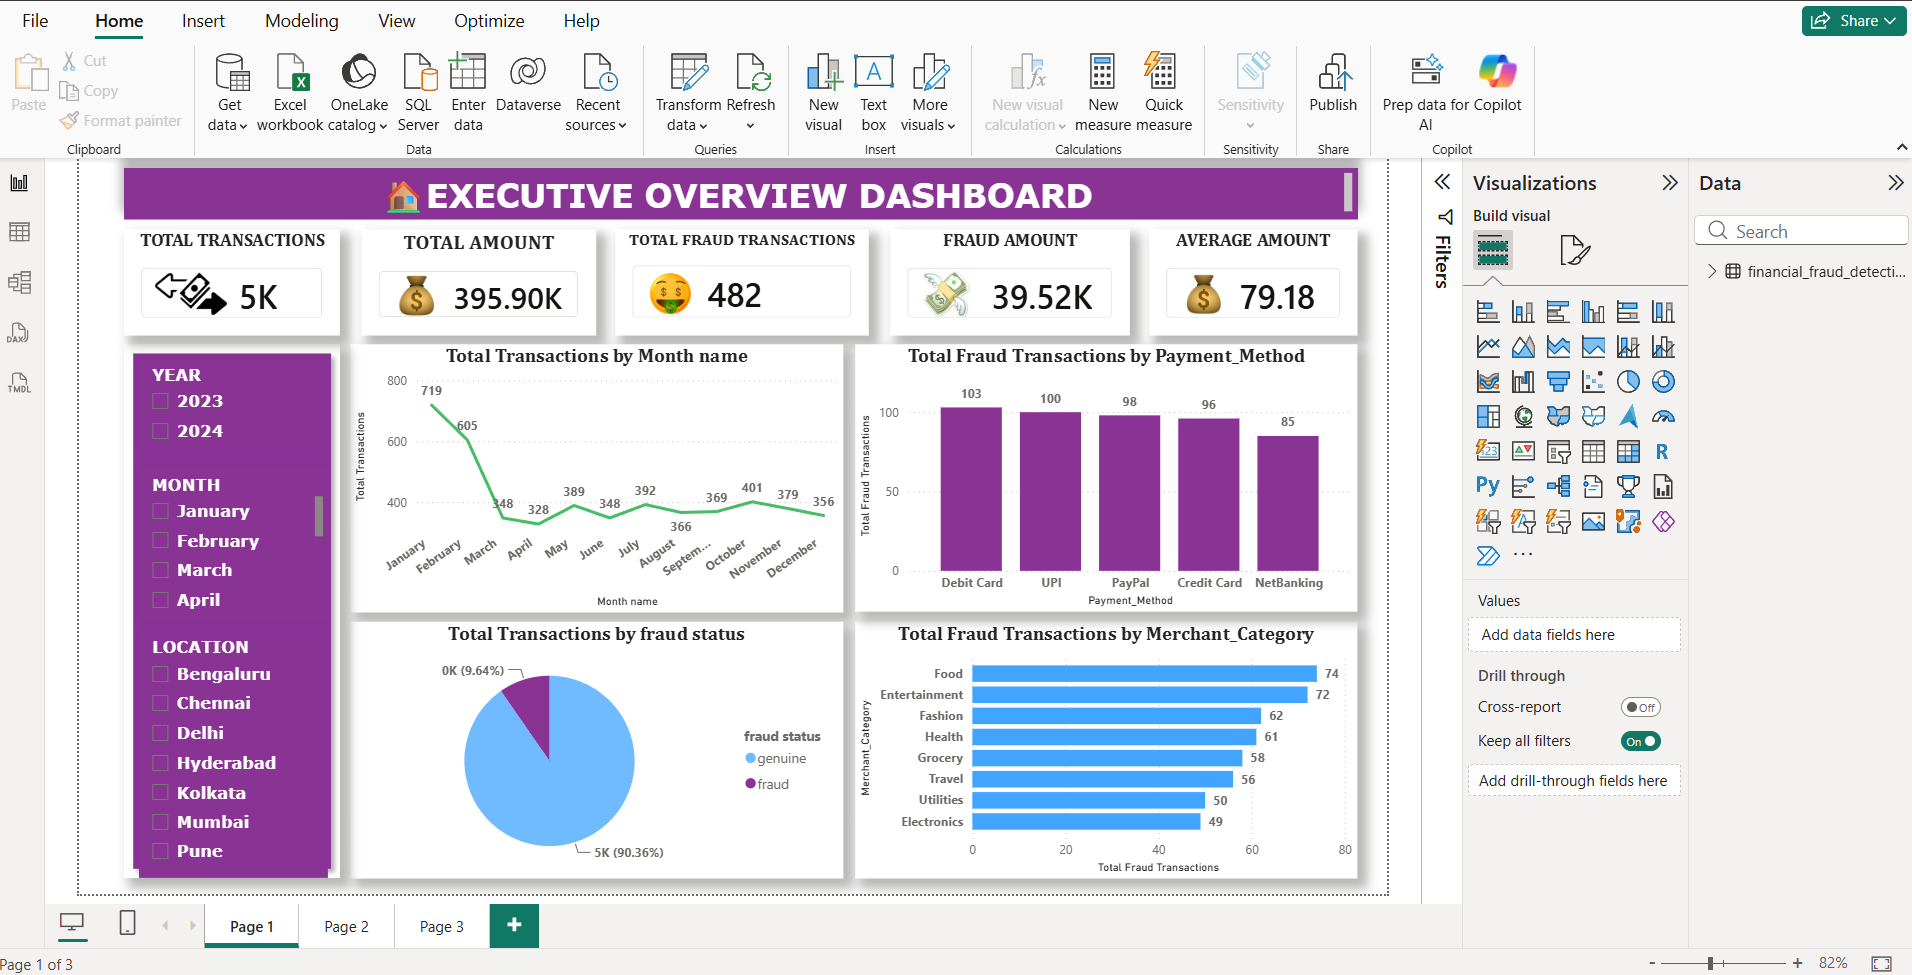

What the dashboard file says about the page in this screenshot:
{"tool":"powerbi","page":{"name":"Page 1","canvas":[1280,720],"ordinal":0},"visuals":[{"type":"cardVisual","title":"TOTAL TRANSACTIONS","fields":{"Data":["financial_fraud_detection_datas.Total Transactions"]},"box":[44,69.7,211.6,103.9],"z":0},{"type":"cardVisual","title":"TOTAL AMOUNT","fields":{"Data":["financial_fraud_detection_datas.Total Amount"]},"box":[276.4,69.7,229.9,103.9],"z":1000},{"type":"cardVisual","title":"TOTAL FRAUD TRANSACTIONS","fields":{"Data":["financial_fraud_detection_datas.Total Fraud Transactions"]},"box":[524.6,69.7,248.2,103.9],"z":2000},{"type":"cardVisual","title":"AVERAGE AMOUNT","fields":{"Data":["financial_fraud_detection_datas.Average amount"]},"box":[1046.7,69.7,204.2,103.9],"z":3000},{"type":"cardVisual","title":"FRAUD AMOUNT","fields":{"Data":["financial_fraud_detection_datas.Fraud Amount"]},"box":[793.6,69.7,234.8,103.9],"z":4000},{"type":"lineChart","fields":{"Y":["financial_fraud_detection_datas.Total Transactions"],"Category":["financial_fraud_detection_datas.Month name"]},"box":[265.6,182.2,482.2,262.2],"z":5000},{"type":"pieChart","fields":{"Category":["financial_fraud_detection_datas.fraud status"],"Y":["financial_fraud_detection_datas.Total Transactions"]},"box":[265.6,453.3,482.2,251.1],"z":6000},{"type":"barChart","fields":{"Y":["financial_fraud_detection_datas.Total Fraud Transactions"],"Category":["financial_fraud_detection_datas.Merchant_Category"]},"box":[758.9,453.3,491.1,251.1],"z":7000},{"type":"columnChart","fields":{"Y":["financial_fraud_detection_datas.Total Fraud Transactions"],"Category":["financial_fraud_detection_datas.Payment_Method"]},"box":[759.4,182.2,491.6,261.7],"z":8000},{"type":"textbox","box":[44,9.8,1206.9,50.1],"z":9000},{"type":"shape","box":[44,182.2,211.6,522.1],"z":10000},{"type":"slicer","fields":{"Values":["financial_fraud_detection_datas.year"]},"box":[58.7,196.9,184.6,92.9],"z":11000},{"type":"slicer","fields":{"Values":["financial_fraud_detection_datas.Month name"]},"box":[58.7,304.5,184.6,149.2],"z":12000},{"type":"slicer","fields":{"Values":["financial_fraud_detection_datas.Location"]},"box":[58.7,463.5,184.6,240.9],"z":13000}]}

Visuals, with their boxes on the page's 1280x720 design canvas (x1, y1, x2, y2). These are canvas units, not pixel positions in the 1912x975 screenshot, which may show the page scaled, cropped or inside an application window:
"TOTAL TRANSACTIONS" cardVisual: {"left": 44, "top": 70, "right": 256, "bottom": 174}
"TOTAL AMOUNT" cardVisual: {"left": 276, "top": 70, "right": 506, "bottom": 174}
"TOTAL FRAUD TRANSACTIONS" cardVisual: {"left": 525, "top": 70, "right": 773, "bottom": 174}
"AVERAGE AMOUNT" cardVisual: {"left": 1047, "top": 70, "right": 1251, "bottom": 174}
"FRAUD AMOUNT" cardVisual: {"left": 794, "top": 70, "right": 1028, "bottom": 174}
lineChart - financial_fraud_detection_datas.Total Transactions x financial_fraud_detection_datas.Month name: {"left": 266, "top": 182, "right": 748, "bottom": 444}
pieChart - financial_fraud_detection_datas.fraud status x financial_fraud_detection_datas.Total Transactions: {"left": 266, "top": 453, "right": 748, "bottom": 704}
barChart - financial_fraud_detection_datas.Total Fraud Transactions x financial_fraud_detection_datas.Merchant_Category: {"left": 759, "top": 453, "right": 1250, "bottom": 704}
columnChart - financial_fraud_detection_datas.Total Fraud Transactions x financial_fraud_detection_datas.Payment_Method: {"left": 759, "top": 182, "right": 1251, "bottom": 444}
textbox: {"left": 44, "top": 10, "right": 1251, "bottom": 60}
shape: {"left": 44, "top": 182, "right": 256, "bottom": 704}
slicer - financial_fraud_detection_datas.year: {"left": 59, "top": 197, "right": 243, "bottom": 290}
slicer - financial_fraud_detection_datas.Month name: {"left": 59, "top": 304, "right": 243, "bottom": 454}
slicer - financial_fraud_detection_datas.Location: {"left": 59, "top": 464, "right": 243, "bottom": 704}
